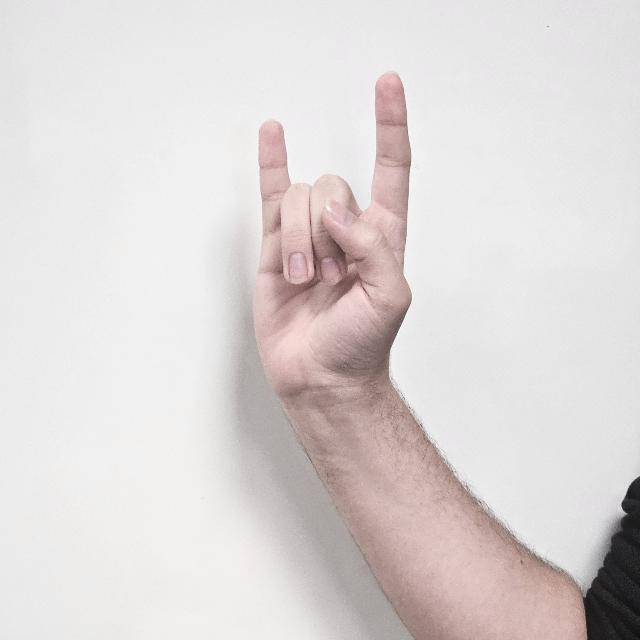L: (254, 70, 418, 398)
